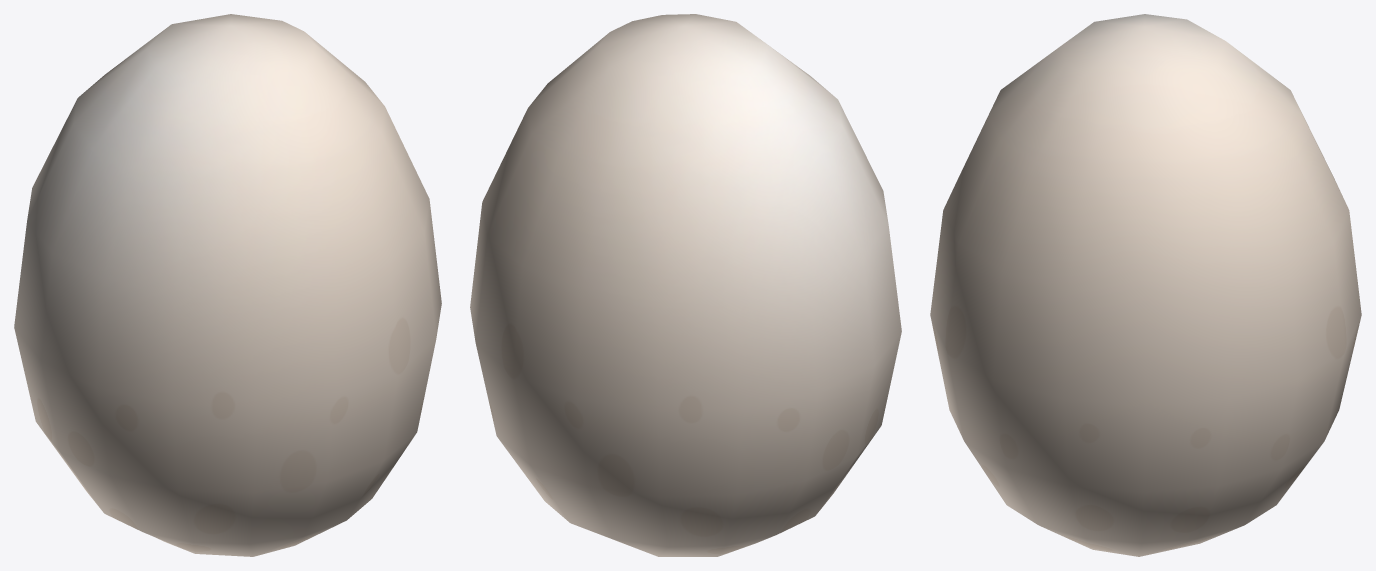
The model's file is FOD0110007.fbx.
The picture shows the model from 3 angles, left to right: view 1: azimuth 30°, elevation 25°; view 2: azimuth 150°, elevation 25°; view 3: azimuth 270°, elevation 25°; orthographic projection.
Visible parts, largest first — view 1: smFOD0110007; view 2: smFOD0110007; view 3: smFOD0110007.
Boxes of the visible parts, x1=… form: smFOD0110007: x1=14, y1=14, x2=441, y2=556; smFOD0110007: x1=470, y1=14, x2=901, y2=556; smFOD0110007: x1=930, y1=14, x2=1361, y2=556.
Size of the model in its own units: 5.26 by 6.87 by 5.26.
Materials: 1 (1 with a texture image).
